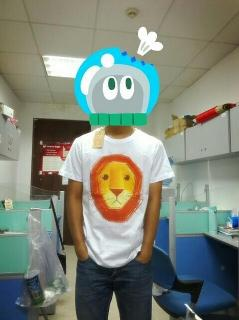short sleeve top: (58, 127, 176, 268)
trousers: (75, 244, 154, 319)
